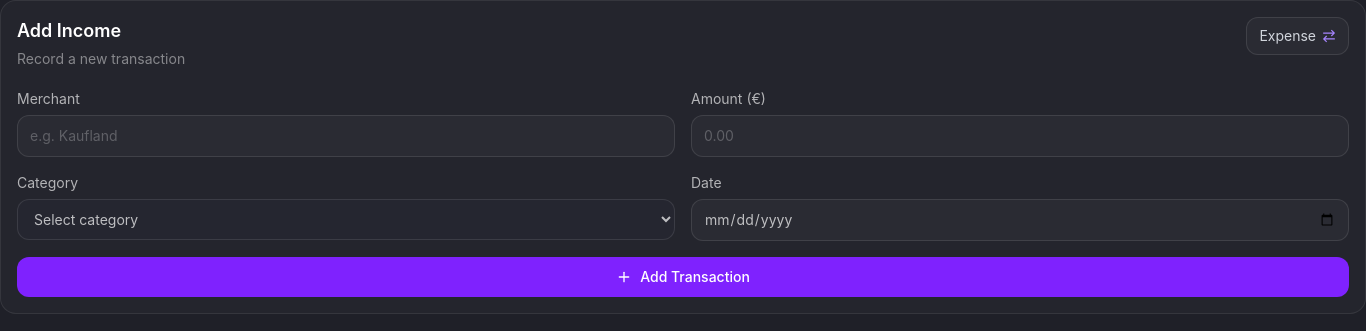
Test case: TransactionFormWidget › toggles between income and expense when no route section is set
What coordinates should you click on to do the following:
click the button "Expense"
I would click on:
 (1298, 36)
Its box is [1246,17,1349,55].
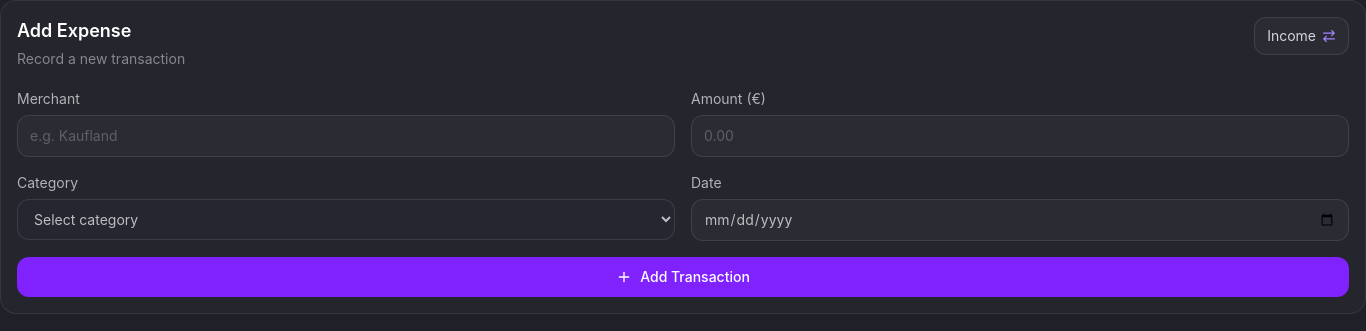
Check: the heading "Add Expense" is shown, box [17,20,131,41]
Check: the button "Income" is shown
What coordinates should you click on to do the following:
click the button "Income"
I would click on:
 (1302, 36)
Its box is [1254,17,1349,55].
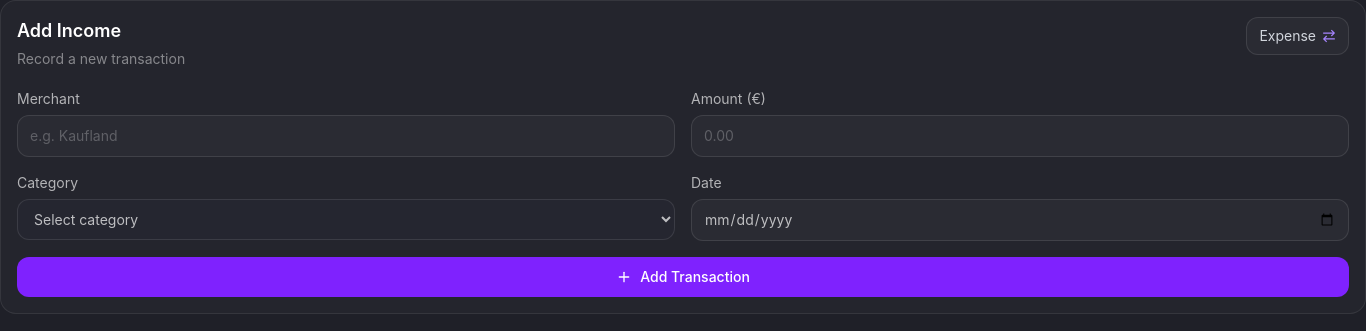
Check: the heading "Add Income" is shown, box [17,20,121,41]
